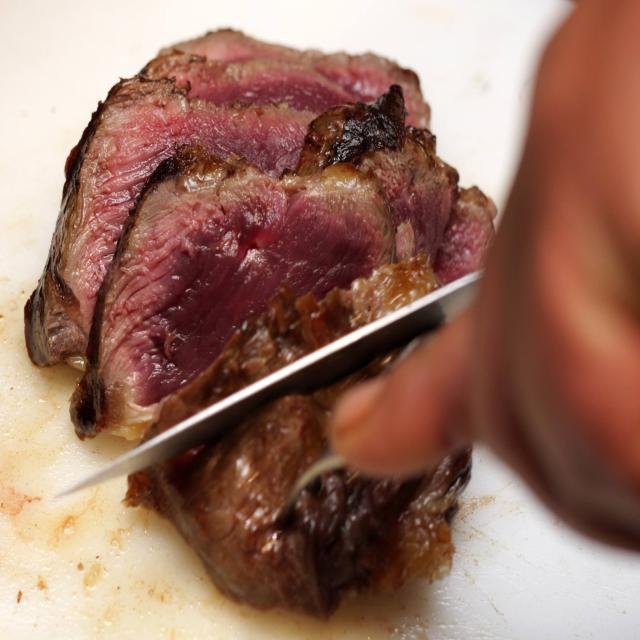carne de res: (53, 36, 392, 392)
